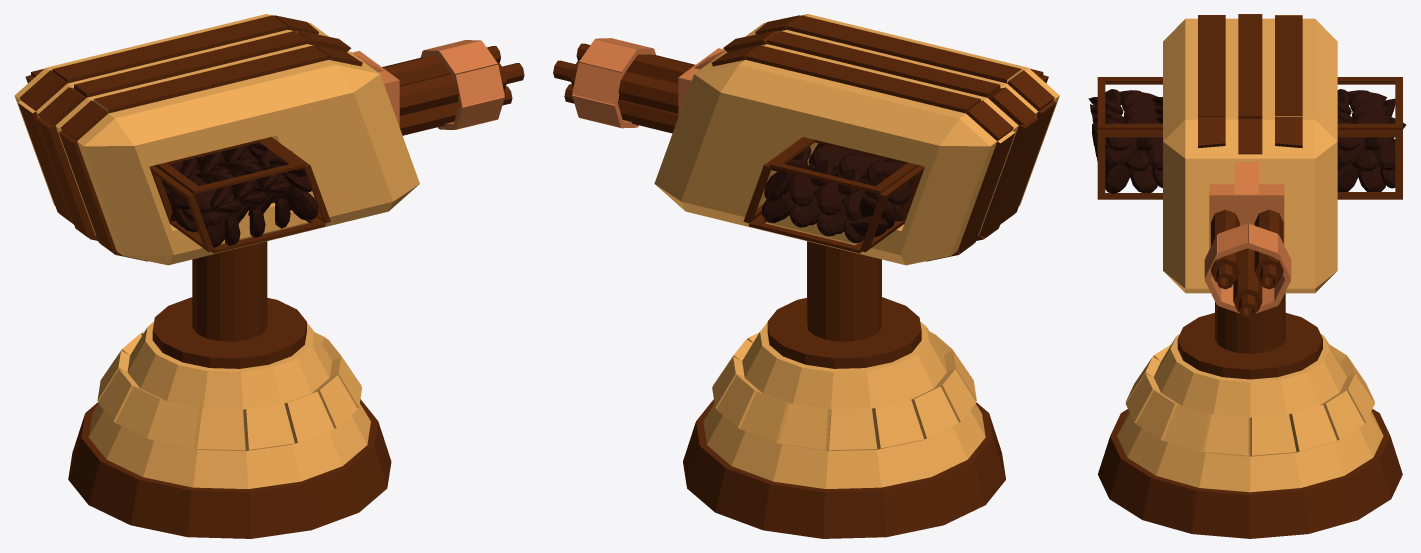
The model's file is CekirdekAtarSv3Model.fbx.
3 views of the same model, side by side, from view 1: azimuth 30°, elevation 25°; view 2: azimuth 150°, elevation 25°; view 3: azimuth 270°, elevation 25° (orthographic). The views are drawn at different scales.
Parts seen in each view (by area): view 1: cekırdekatar_ust.002, parentli kurdanatar.016, cekrdekatar_on.002; view 2: cekırdekatar_ust.002, parentli kurdanatar.016, cekrdekatar_on.002; view 3: cekırdekatar_ust.002, parentli kurdanatar.016, cekrdekatar_on.002.
Part boxes in pixels (x1,y1,x2,y2): cekırdekatar_ust.002: [14, 14, 419, 265]; parentli kurdanatar.016: [68, 241, 391, 538]; cekrdekatar_on.002: [382, 40, 524, 135]; cekırdekatar_ust.002: [654, 14, 1059, 265]; parentli kurdanatar.016: [683, 241, 1005, 538]; cekrdekatar_on.002: [553, 38, 695, 133]; cekırdekatar_ust.002: [1088, 14, 1406, 293]; parentli kurdanatar.016: [1098, 293, 1402, 538]; cekrdekatar_on.002: [1204, 209, 1291, 319].
Bounding box in the file's own units: 329 × 283 × 209.
Materials: 4 (4 with a texture image).
